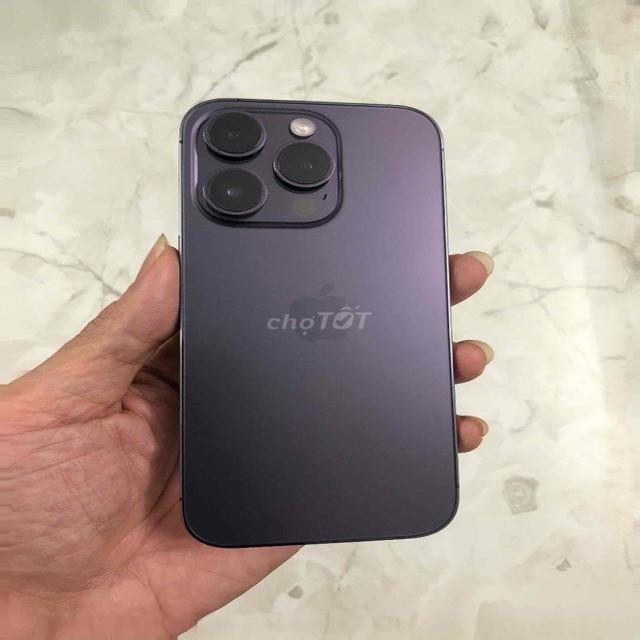gen_14: (165, 90, 471, 549)
